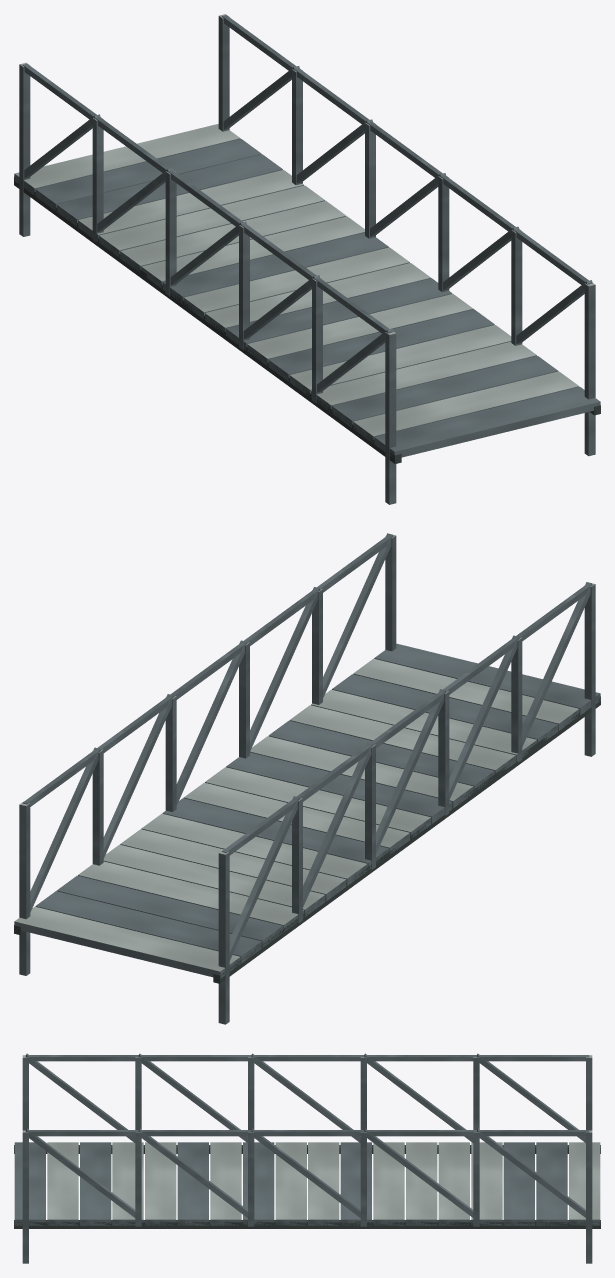
The model's file is bridge_metal_truss.fbx.
3 views of the same model, one above another, from view 1: azimuth 30°, elevation 25°; view 2: azimuth 150°, elevation 25°; view 3: azimuth 270°, elevation 25° (orthographic). The views are drawn at different scales.
Visible parts, largest first — view 1: bridge_metal_truss; view 2: bridge_metal_truss; view 3: bridge_metal_truss.
Boxes of the visible parts, x1,y1,x2,y2 form: bridge_metal_truss: (14, 14, 600, 504); bridge_metal_truss: (14, 533, 600, 1024); bridge_metal_truss: (14, 1053, 600, 1263).
Bounding box in the file's own units: 500 × 400 × 1600.
1 material, 1 textured.
